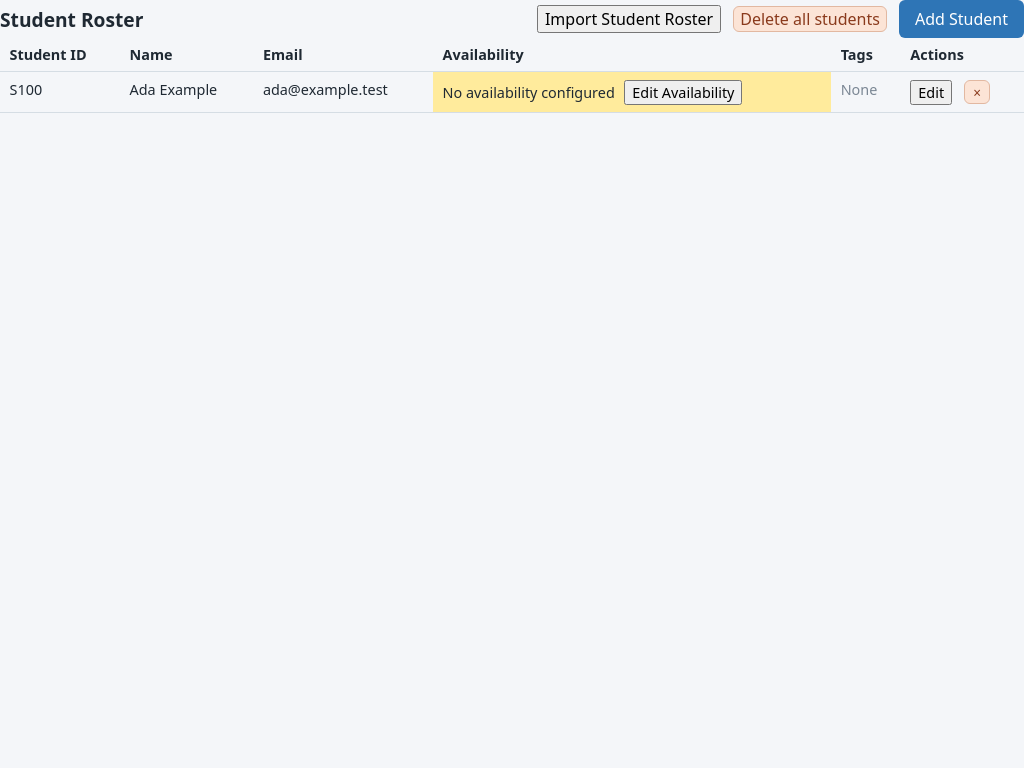
Test case: Student Roster page › shows server errors such as duplicate Student IDs
This screenshot has width=1024, height=768.
Click the button with aria-label "Edit Ada Example" at (931, 92), box x1=910 y1=80 x2=952 y2=105
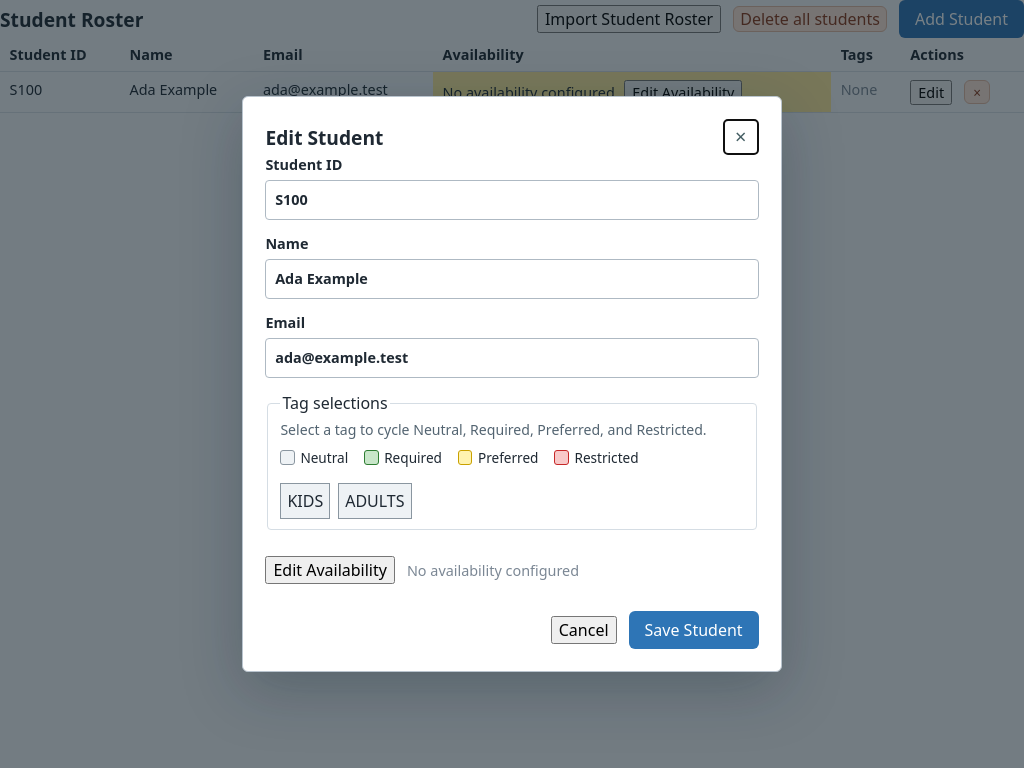
Click the button "Save Student" at (694, 630), box x1=628 y1=611 x2=759 y2=649
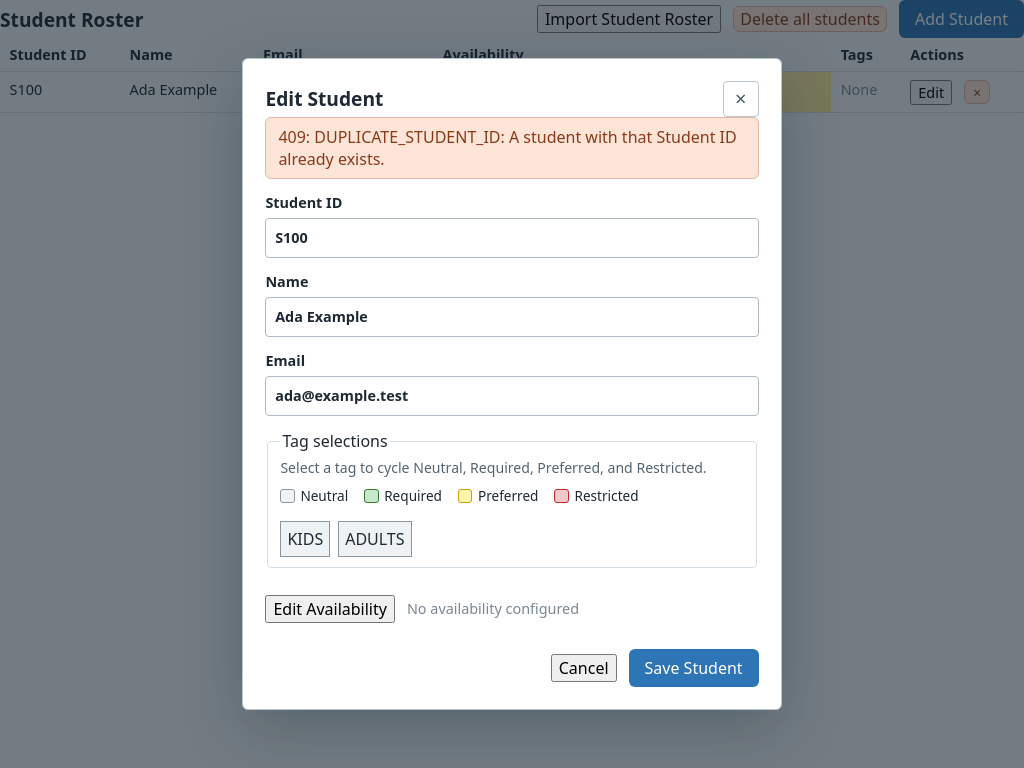
Result: the text "already exists" is shown at x1=278 y1=126 x2=737 y2=170
